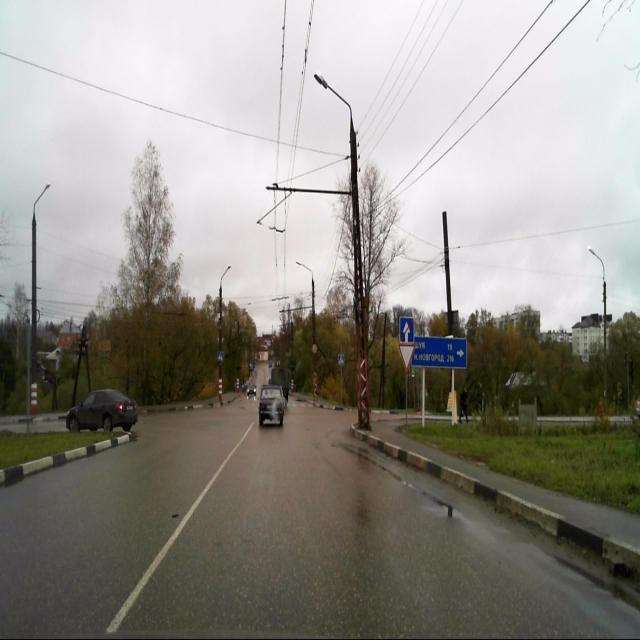road sign: (398, 315, 414, 344), (398, 342, 414, 371)
